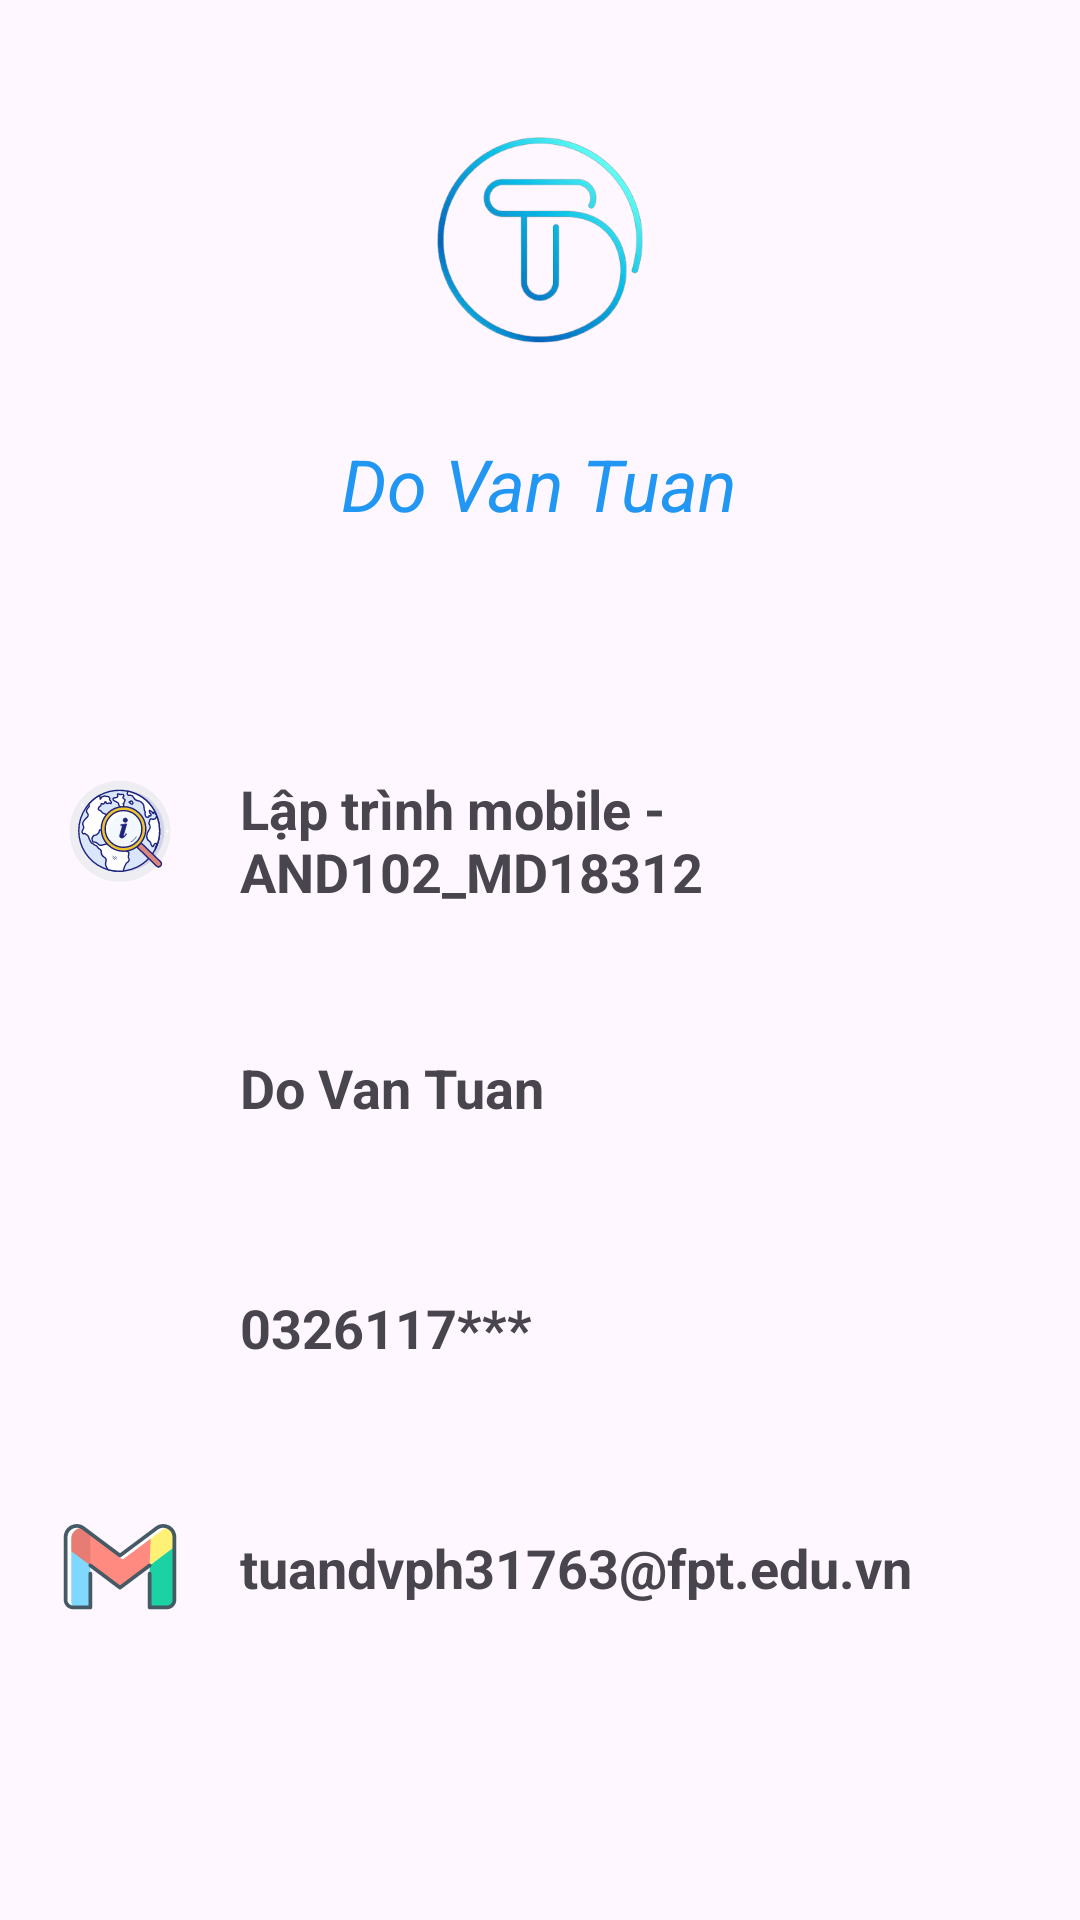

Icons on this 1080px x 1920px Android screen, each with its box as (x1, y1, x2, y2):
info: (78, 789, 164, 872)
